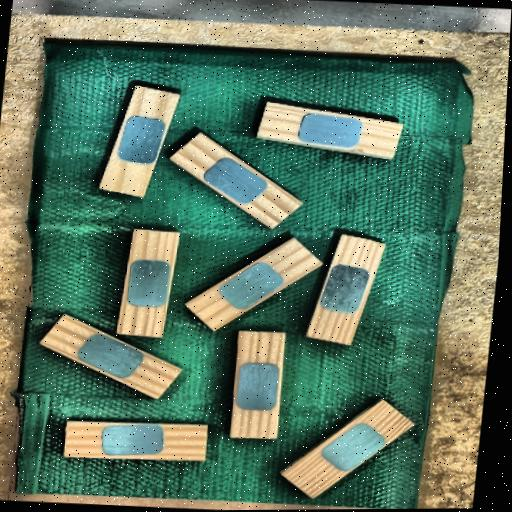objects: (280, 393, 414, 506), (169, 126, 303, 236), (184, 231, 323, 337), (39, 310, 183, 404), (99, 80, 180, 203), (305, 229, 386, 352), (258, 101, 403, 159), (115, 225, 180, 342), (230, 329, 285, 440), (64, 421, 208, 461)
